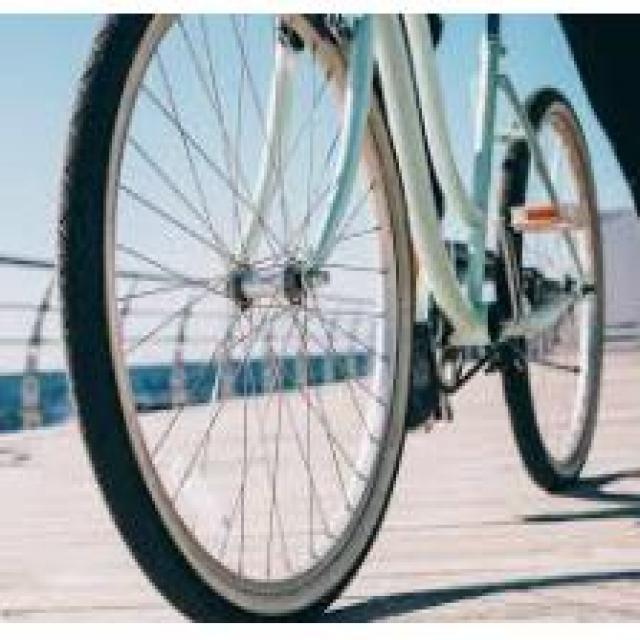bicycle: (33, 15, 636, 618)
